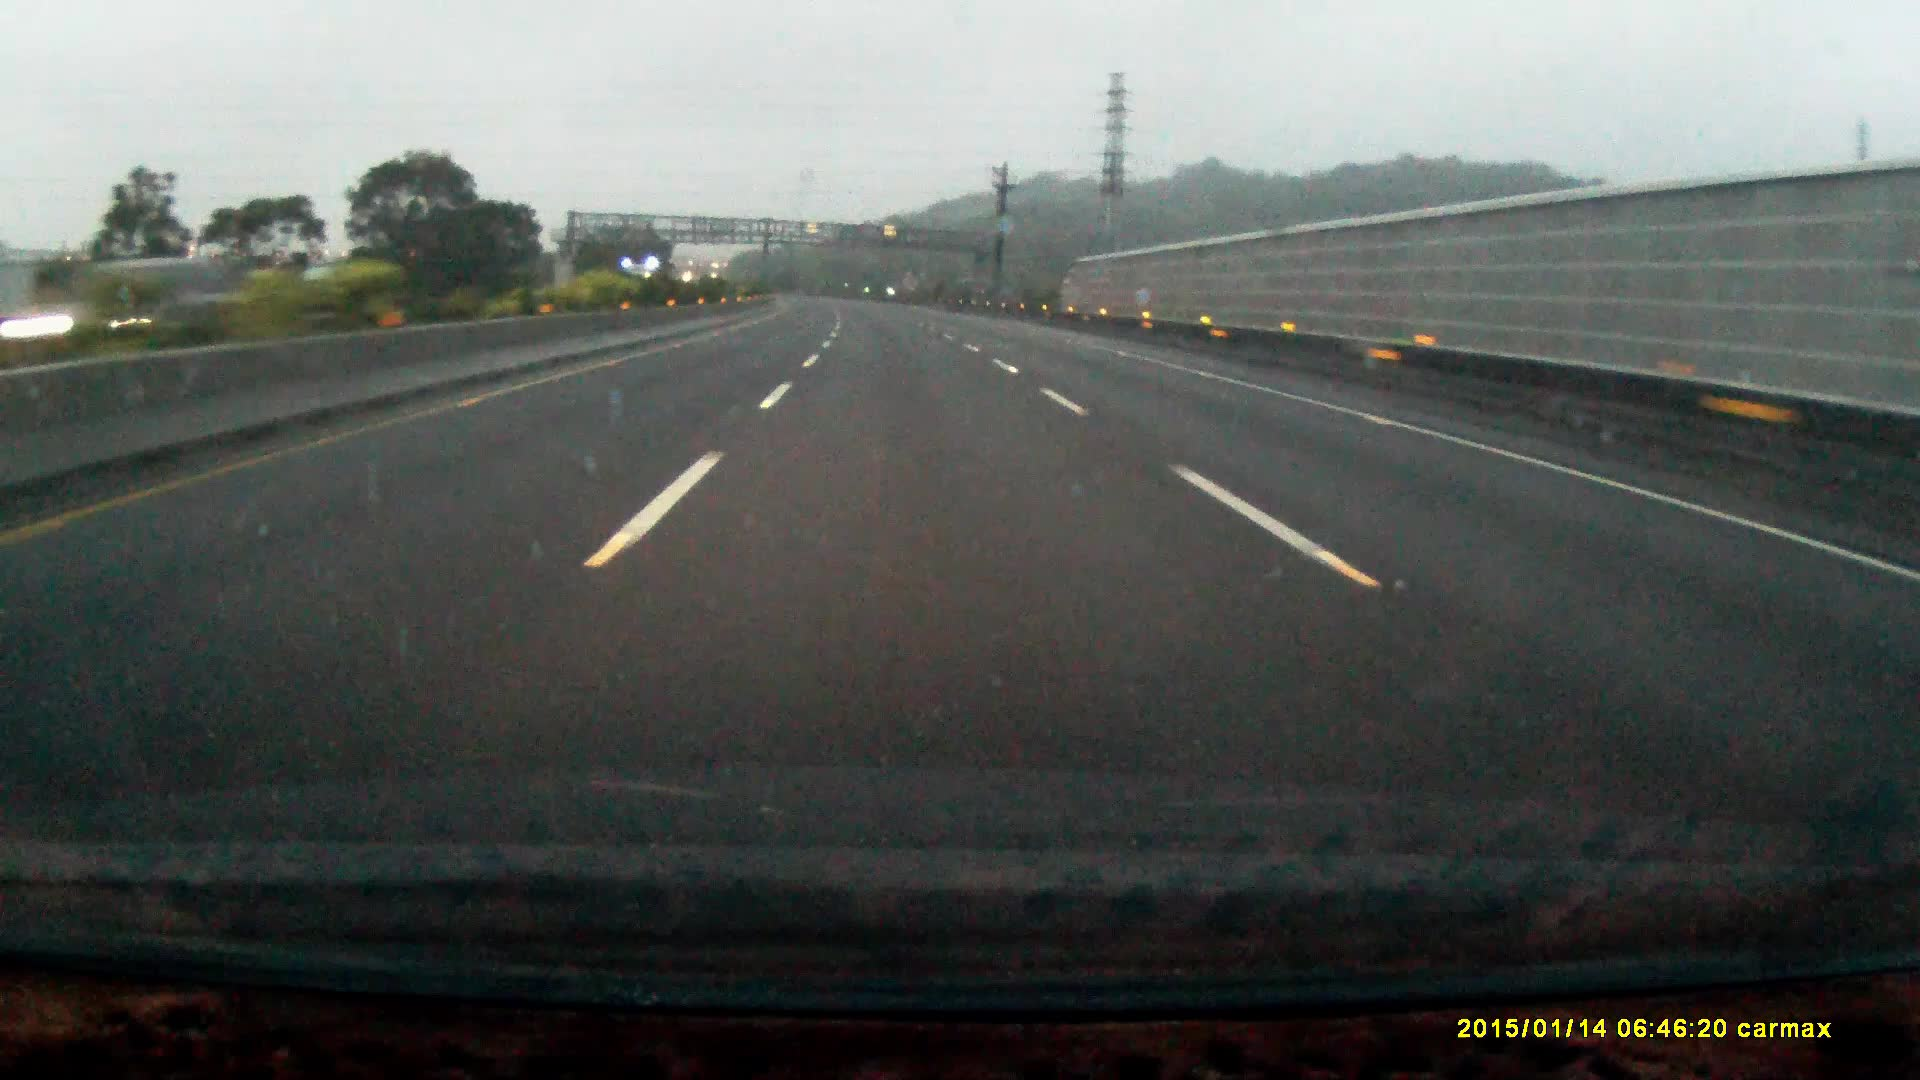vehicle: (622, 262, 669, 309)
